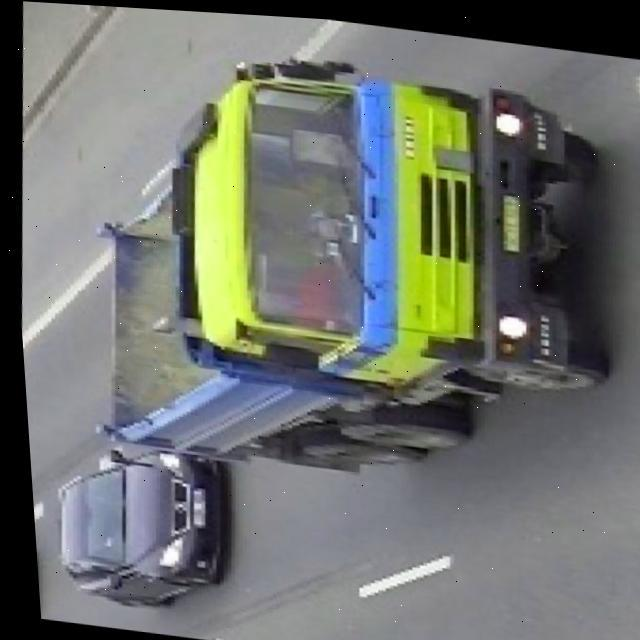truck: (66, 28, 626, 507)
